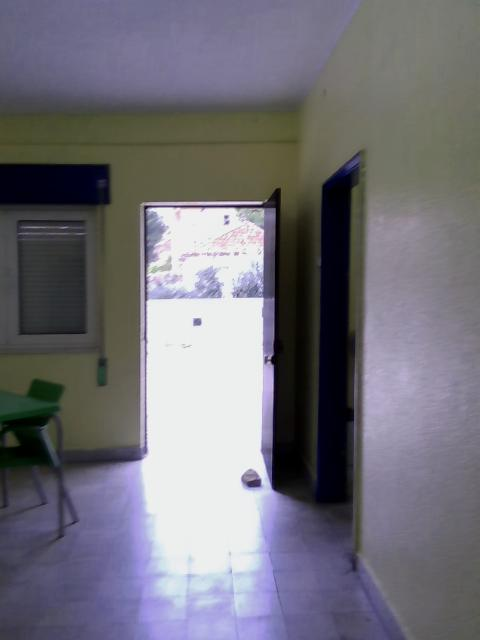open_door: (133, 191, 290, 466)
